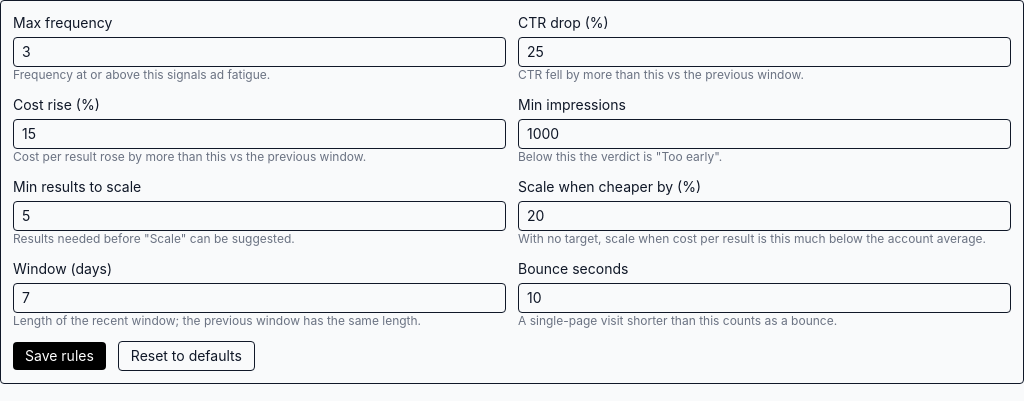
Test case: RulesForm › shows the server error
What coordinates should you click on to do the following:
click the button "Save rules"
I would click on:
 (59, 356)
Its box is [13,342,106,370].
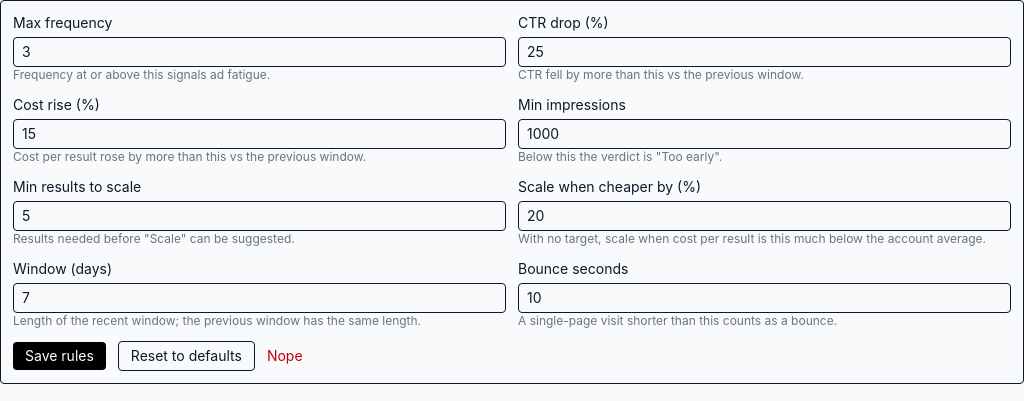
expect the message reads "Nope": met, box [267,347,303,364]
